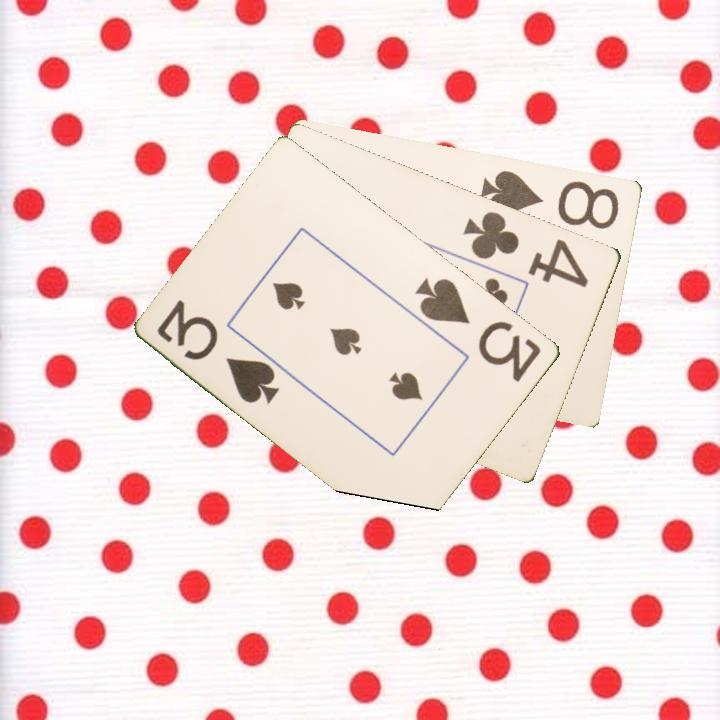3s: (411, 274, 545, 385), (154, 296, 284, 407)
4c: (460, 207, 592, 290)
8s: (478, 166, 623, 232)
